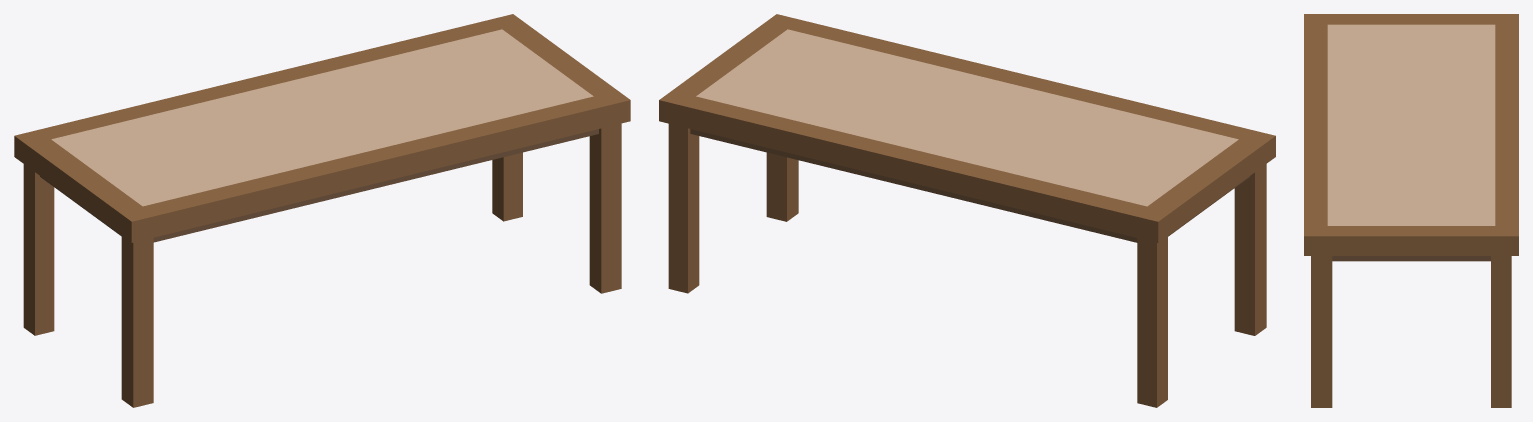
Rendered from cofee_table.glb.
3 renders of one model, left to right at view 1: azimuth 30°, elevation 25°; view 2: azimuth 150°, elevation 25°; view 3: azimuth 270°, elevation 25°, orthographic. The views are drawn at different scales.
Parts seen in each view (by area): view 1: Coffee Table; view 2: Coffee Table; view 3: Coffee Table.
Part boxes in pixels (x1,y1,x2,y2): Coffee Table: [14, 14, 630, 407]; Coffee Table: [659, 14, 1275, 407]; Coffee Table: [1304, 14, 1518, 407].
Size of the model in its own units: 1.47 by 0.5354 by 0.5996.
1 material, 1 textured.
